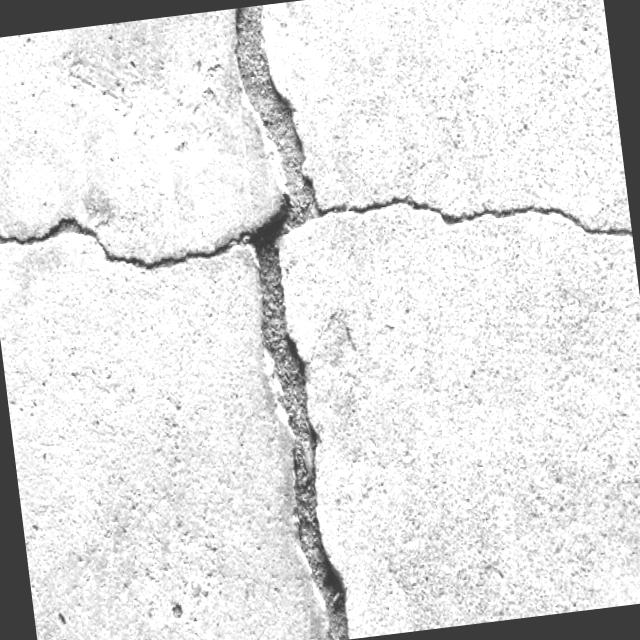crack: (324, 164, 631, 274), (0, 194, 248, 291)
spall: (216, 1, 375, 640)
